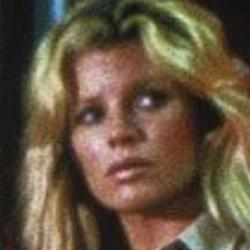face: (21, 4, 241, 241)
